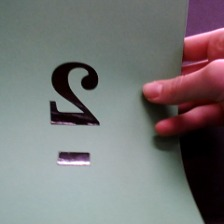green2: (45, 55, 106, 174)
